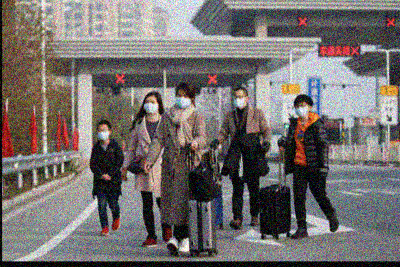with_mask: (142, 99, 160, 114), (176, 92, 192, 108), (96, 127, 111, 142), (232, 93, 246, 109), (296, 102, 309, 117)
